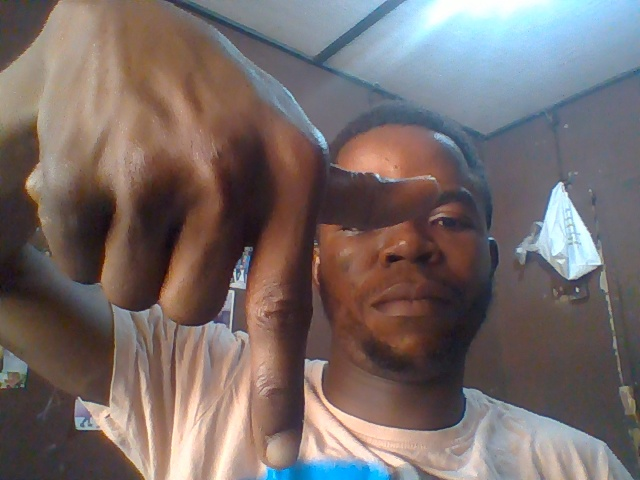Down: (22, 5, 443, 472)
